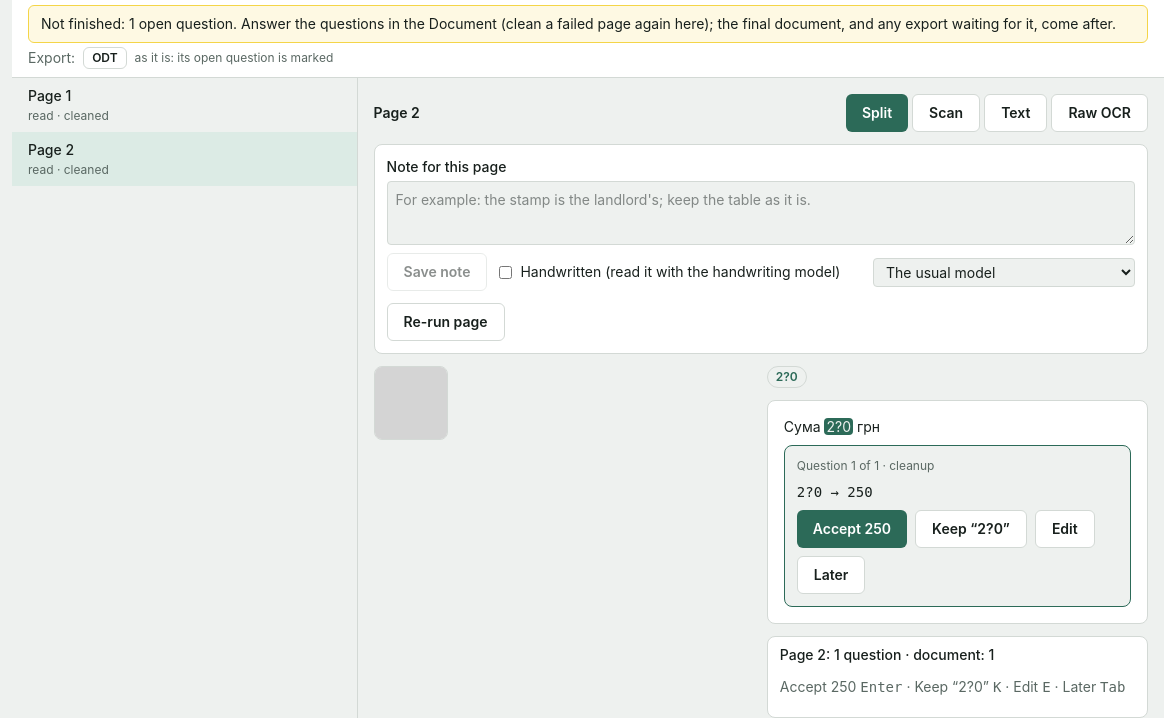
Scenario: OCR tab › opens at the first open question when asked to (the chat's "N open questions")
(page scrolled)
Expected: the text "2?0 → 250" is shown, [797,484,873,500]
Click the button "Accept 250": click(852, 529) [797,510,907,548]
(page scrolled)
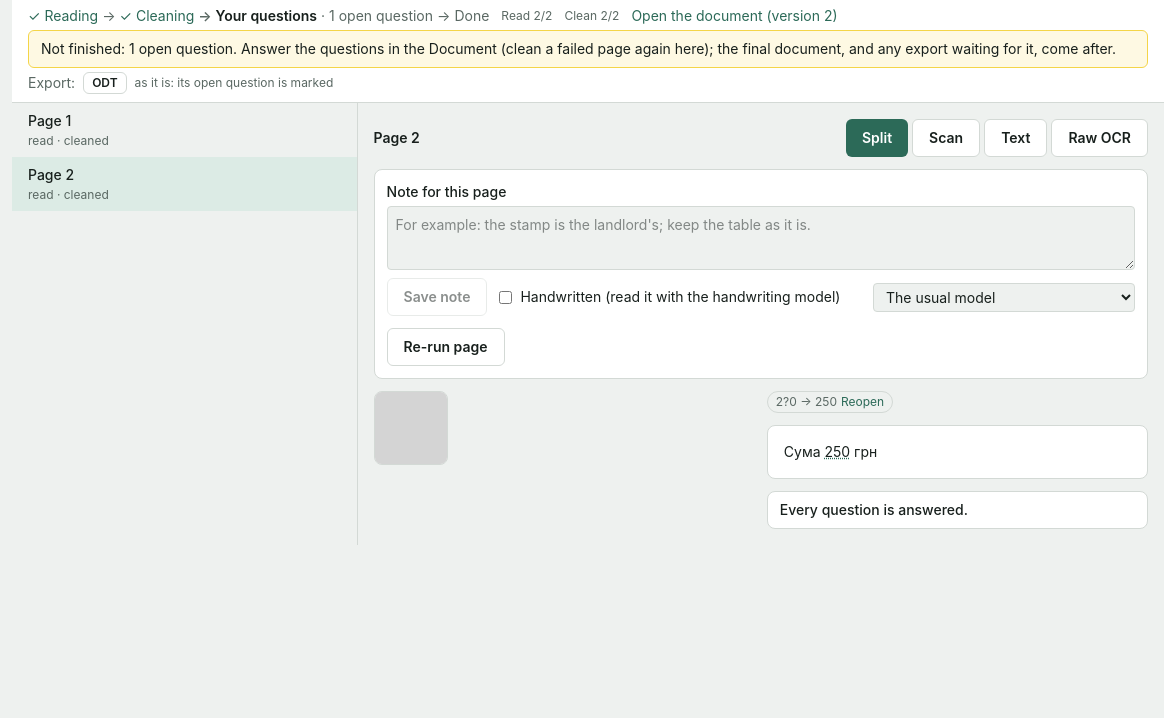
Expected: the element with test id "question-card" is gone
